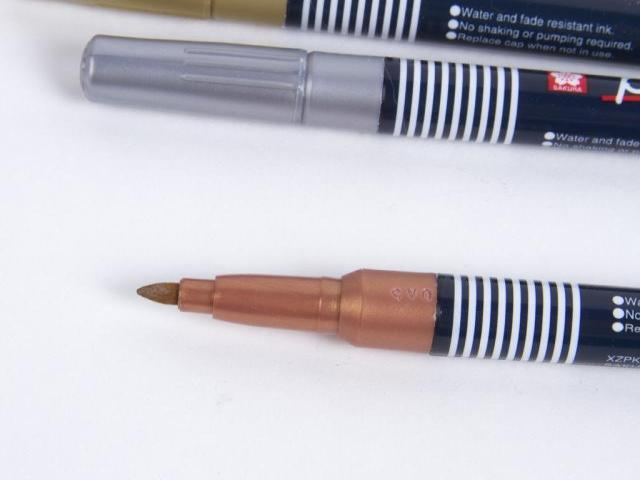PEN: (84, 265, 640, 379)
